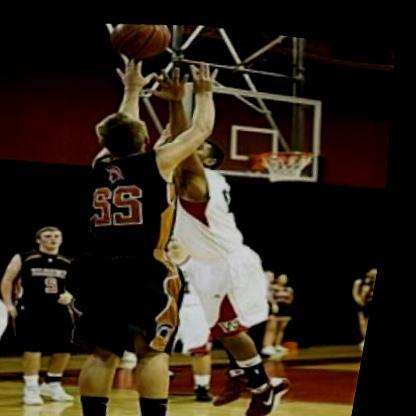basketball: (109, 14, 177, 57)
